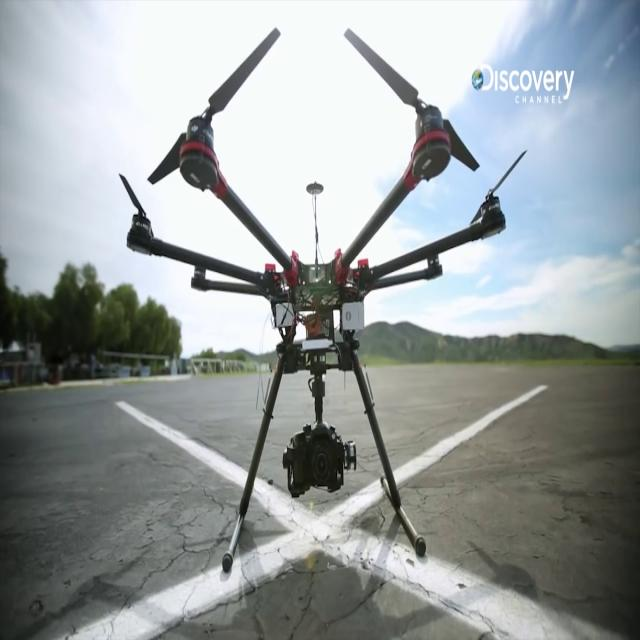drone: (93, 4, 526, 575)
